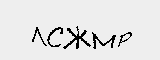Ж: (62, 24, 90, 51)
Л: (28, 25, 47, 49)
М: (90, 30, 115, 52)
Р: (116, 32, 136, 49)
С: (47, 25, 65, 49)
